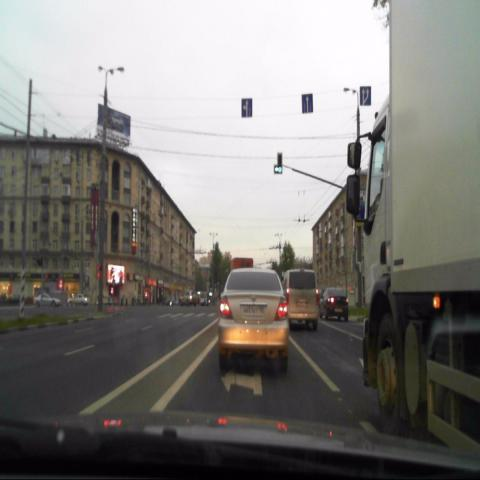5_15_3: (360, 85, 371, 105)
